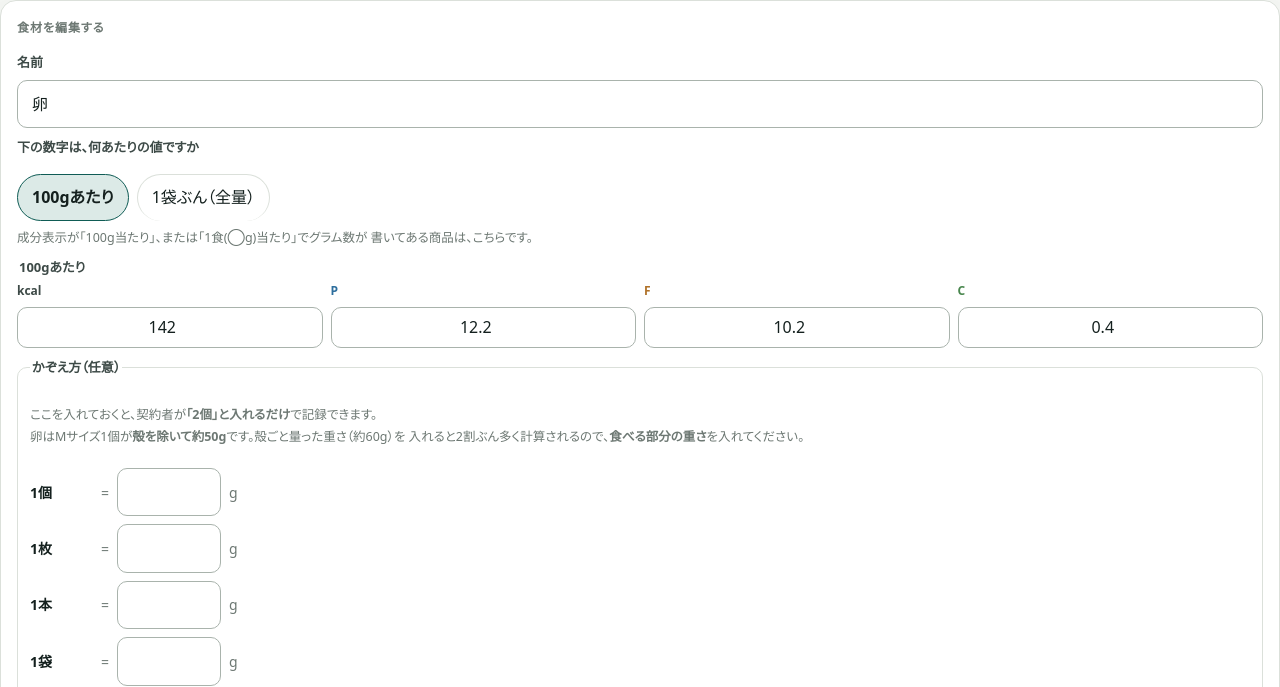
★ 1袋ぶんで登録する › ★ 1袋 = 100g が入り、触れなくなる
This screenshot has width=1280, height=687.
Click the radio button labelled "1袋ぶん（全量）" at x=203, y=197, box 137,174 -> 270,221
(page scrolled)
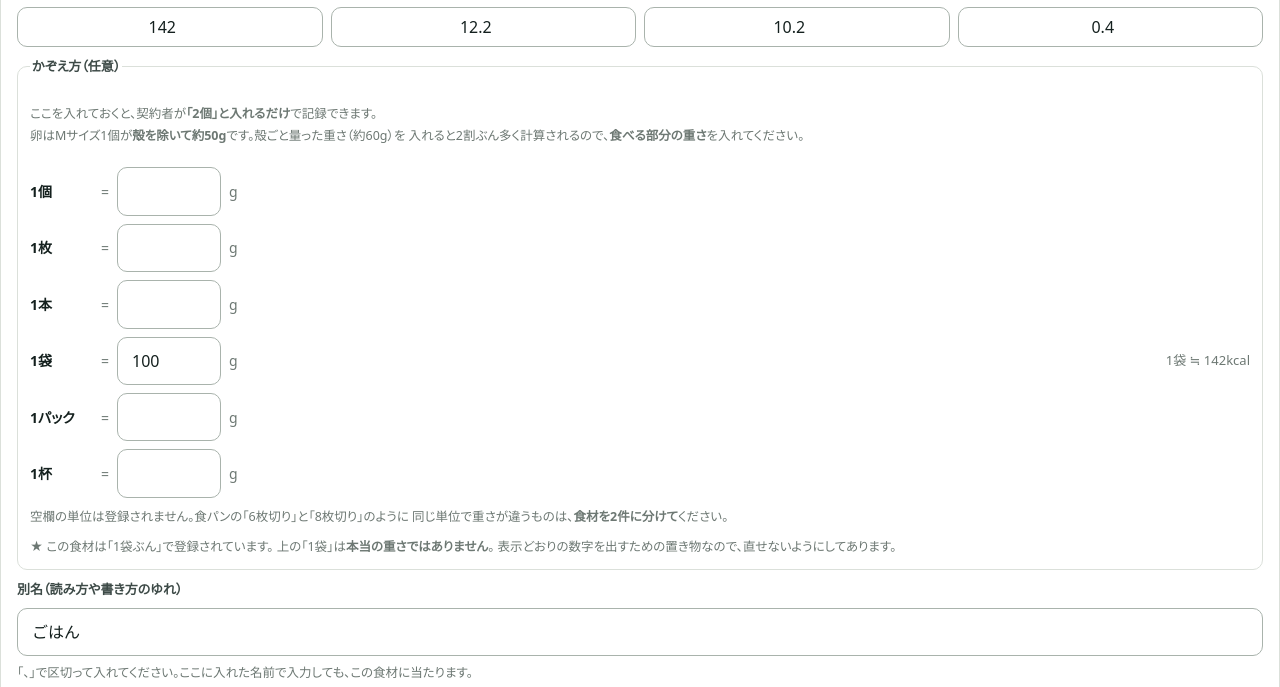
Expected: the number field named "1袋あたりの重さ（g）" holds "100", 117,336 -> 221,385
